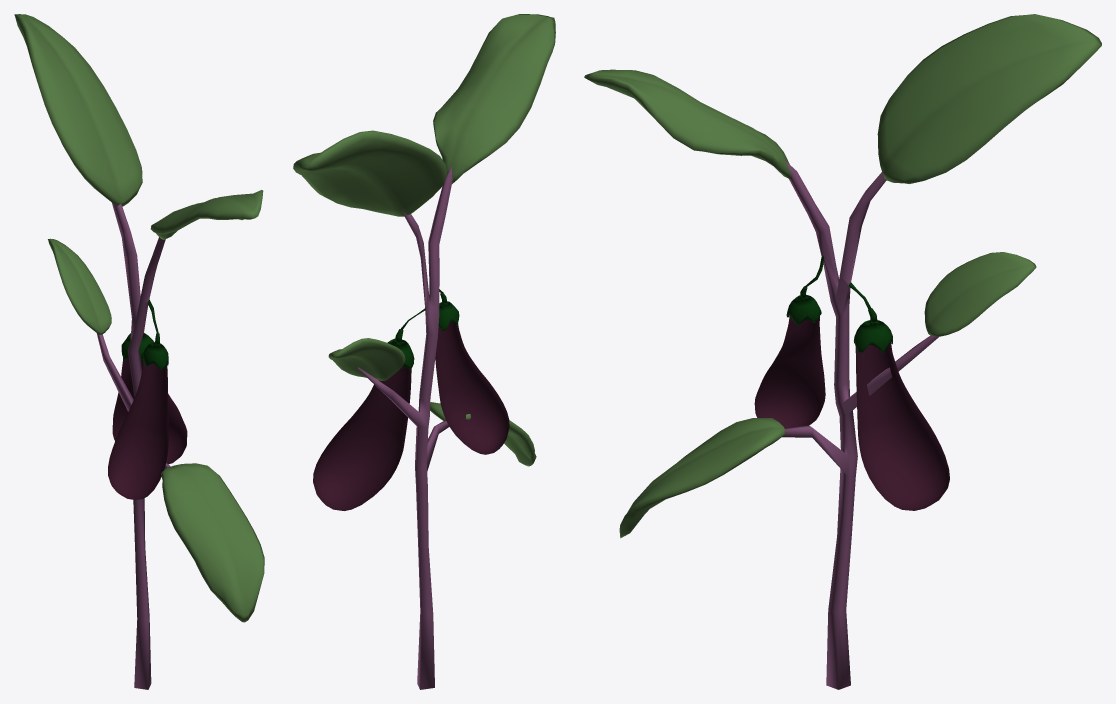
Rendered from eggplant_3 .fbx.
3 renders of one model, left to right at view 1: azimuth 30°, elevation 25°; view 2: azimuth 150°, elevation 25°; view 3: azimuth 270°, elevation 25°, orthographic. The views are drawn at different scales.
Visible parts, largest first — view 1: Plane.002, Cube; view 2: Plane.002, Cube; view 3: Plane.002, Cube.
Part boxes in pixels (<box>): Plane.002: <box>14,14,264,689</box>; Cube: <box>112,333,187,464</box>; Plane.002: <box>293,14,555,689</box>; Cube: <box>313,329,414,510</box>; Plane.002: <box>584,14,1101,689</box>; Cube: <box>854,308,949,510</box>.
Bounding box in the file's own units: 13.25 × 61.08 × 43.61.
